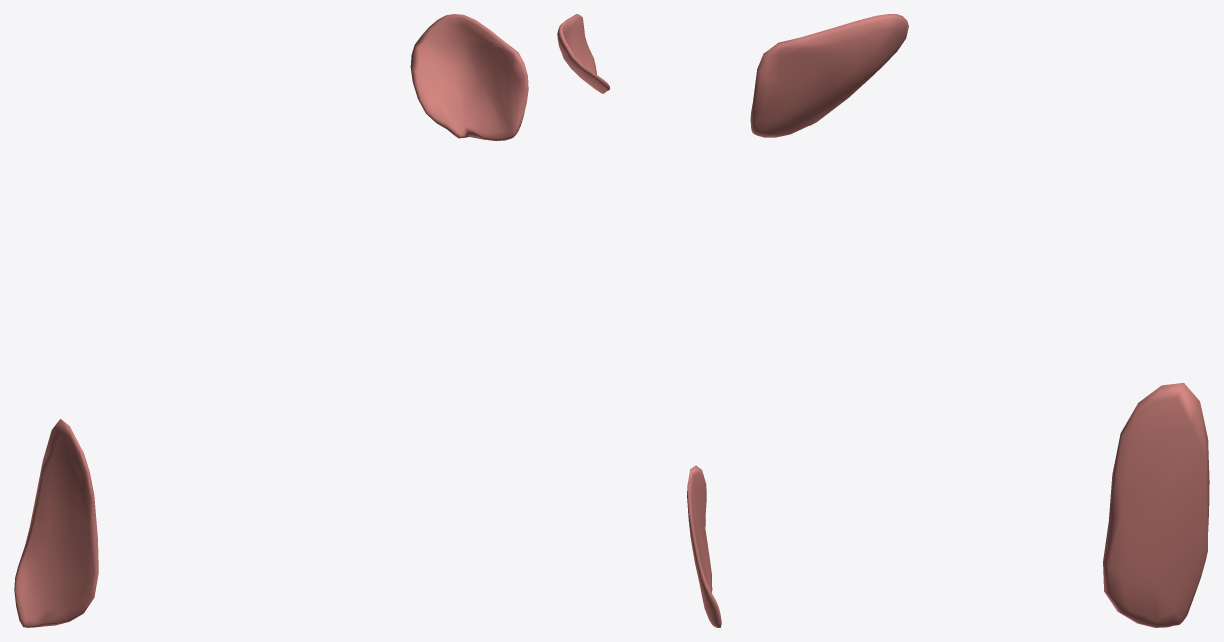
3 views of the same model, side by side, from view 1: azimuth 30°, elevation 25°; view 2: azimuth 150°, elevation 25°; view 3: azimuth 270°, elevation 25° (orthographic). The views are drawn at different scales.
Visible parts, largest first — view 1: ZA_bc40380c408fb354; view 2: ZA_bc40380c408fb354; view 3: ZA_bc40380c408fb354.
Boxes of the visible parts, x1,y1,x2,y2 form: ZA_bc40380c408fb354: (14,14,528,627); ZA_bc40380c408fb354: (557,14,721,627); ZA_bc40380c408fb354: (750,14,1209,627).
Size of the model in its own units: 0.024 by 0.0408 by 0.0209.
